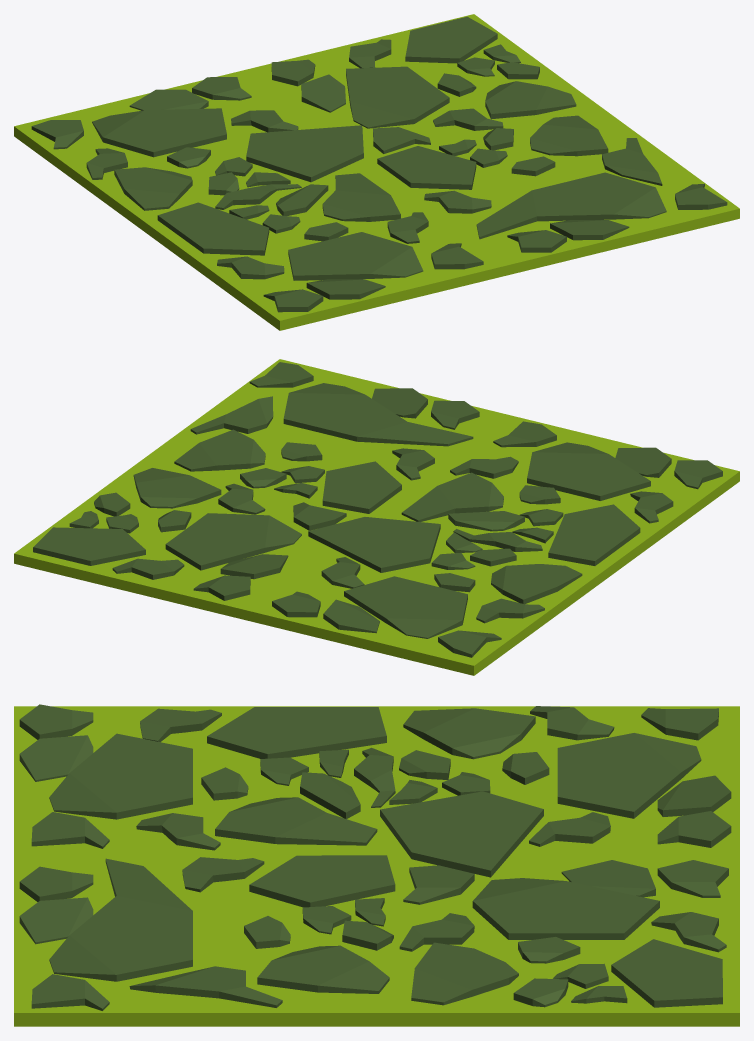
Rendered from PoisonGround.fbx.
3 renders of one model, top to bottom at view 1: azimuth 30°, elevation 25°; view 2: azimuth 150°, elevation 25°; view 3: azimuth 270°, elevation 25°, orthographic. The views are drawn at different scales.
Visible parts, largest first — view 1: PoisonGround; view 2: PoisonGround; view 3: PoisonGround.
Part boxes in pixels (left/top/right/bottom): PoisonGround: left=14, top=14, right=739, bottom=330; PoisonGround: left=14, top=359, right=739, bottom=675; PoisonGround: left=14, top=704, right=739, bottom=1026.
Size of the model in its own units: 505 by 16.22 by 505.
Materials: 1 (1 with a texture image).
